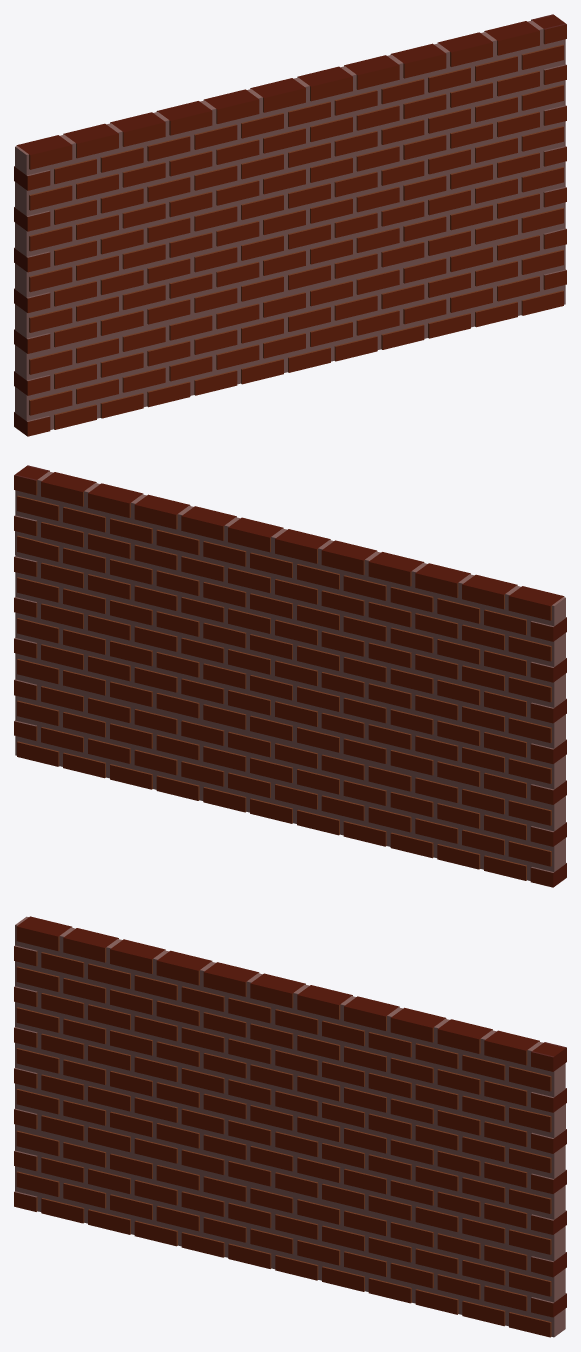
File: BrickWall_Medium.fbx
The picture shows the model from 3 angles, top to bottom: view 1: azimuth 30°, elevation 25°; view 2: azimuth 150°, elevation 25°; view 3: azimuth 330°, elevation 25°; orthographic projection.
Parts seen in each view (by area): view 1: BrickWall_Medium; view 2: BrickWall_Medium; view 3: BrickWall_Medium.
Boxes of the visible parts, box(x1,y1,x2,y2) form: BrickWall_Medium: box(14, 14, 566, 436); BrickWall_Medium: box(14, 465, 566, 887); BrickWall_Medium: box(14, 916, 566, 1337).
Bounding box in the file's own units: 1148 × 571 × 50.53.
